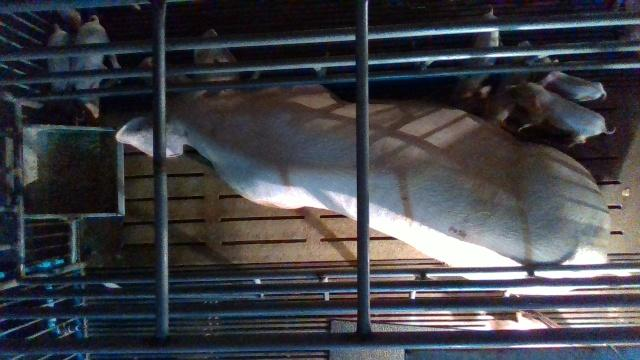piglet: (507, 81, 616, 145), (74, 15, 121, 121), (454, 4, 497, 102), (528, 55, 607, 103), (45, 22, 72, 94)
sow-sit: (113, 30, 608, 298)
